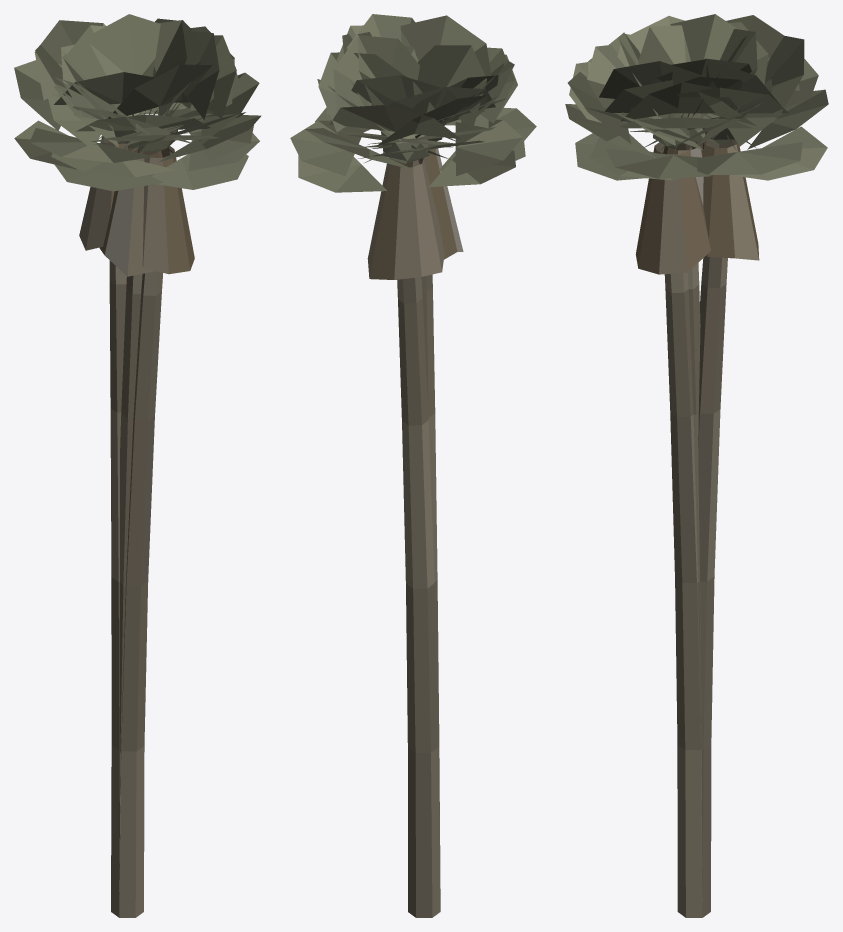
Rendered from palm-mexican-fan.glb.
The picture shows the model from 3 angles, left to right: view 1: azimuth 30°, elevation 25°; view 2: azimuth 150°, elevation 25°; view 3: azimuth 270°, elevation 25°; orthographic projection.
Visible parts, largest first — view 1: palm-mexican-fan_v0_LOD0, palm-mexican-fan_v1_LOD0, palm-mexican-fan_v2_LOD0; view 2: palm-mexican-fan_v2_LOD0, palm-mexican-fan_v1_LOD0, palm-mexican-fan_v0_LOD0; view 3: palm-mexican-fan_v0_LOD0, palm-mexican-fan_v2_LOD0, palm-mexican-fan_v1_LOD0.
Boxes of the visible parts, x1,y1,x2,y2 form: palm-mexican-fan_v0_LOD0: (47, 26, 261, 917); palm-mexican-fan_v1_LOD0: (51, 14, 259, 917); palm-mexican-fan_v2_LOD0: (14, 18, 213, 917); palm-mexican-fan_v2_LOD0: (290, 35, 522, 917); palm-mexican-fan_v1_LOD0: (315, 15, 536, 917); palm-mexican-fan_v0_LOD0: (317, 14, 525, 170); palm-mexican-fan_v0_LOD0: (565, 34, 776, 917); palm-mexican-fan_v2_LOD0: (611, 15, 828, 917); palm-mexican-fan_v1_LOD0: (575, 14, 778, 897).
Size of what is drawn, in the model's own units: 5.16 by 21.04 by 5.68.
